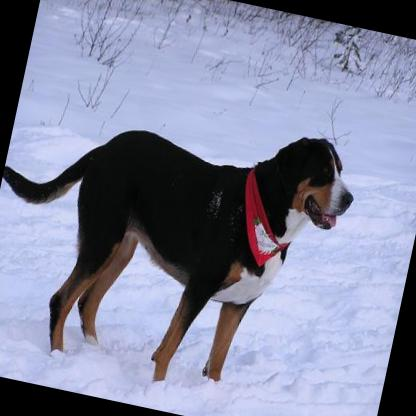Greater_Swiss_Mountain_dog: (0, 72, 365, 413)
